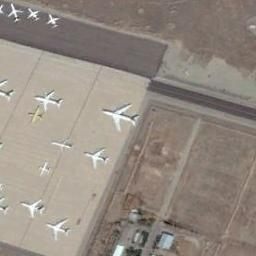Airplane: (96, 101, 142, 134), (44, 216, 79, 243), (32, 86, 64, 112), (83, 142, 111, 168), (18, 197, 48, 221), (51, 138, 76, 155), (8, 4, 24, 24), (27, 104, 43, 122), (47, 14, 60, 32), (36, 162, 50, 176), (28, 8, 39, 23)
